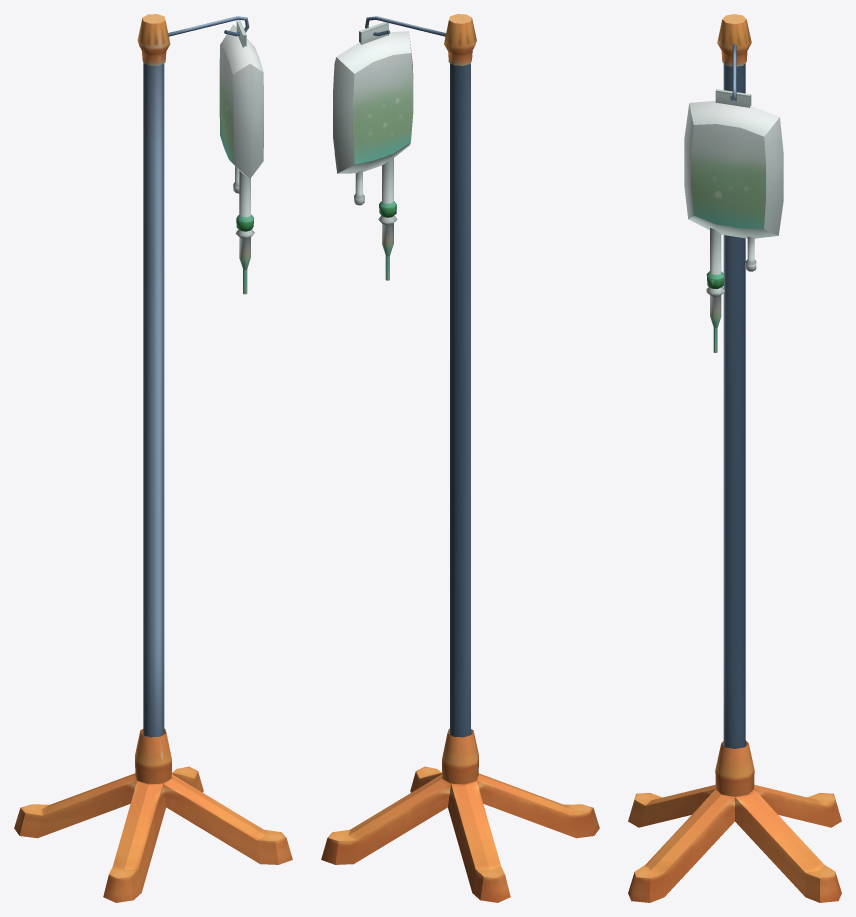
Rendered from Ringel.FBX.
The picture shows the model from 3 angles, left to right: view 1: azimuth 30°, elevation 25°; view 2: azimuth 150°, elevation 25°; view 3: azimuth 270°, elevation 25°; orthographic projection.
Parts seen in each view (by area): view 1: Cylinder028; view 2: Cylinder028; view 3: Cylinder028.
Part boxes in pixels (x1,y1,x2,y2): Cylinder028: (14, 14, 292, 902); Cylinder028: (321, 14, 599, 902); Cylinder028: (628, 14, 841, 902).
Size of the model in its own units: 4.29 by 16.55 by 3.83.
